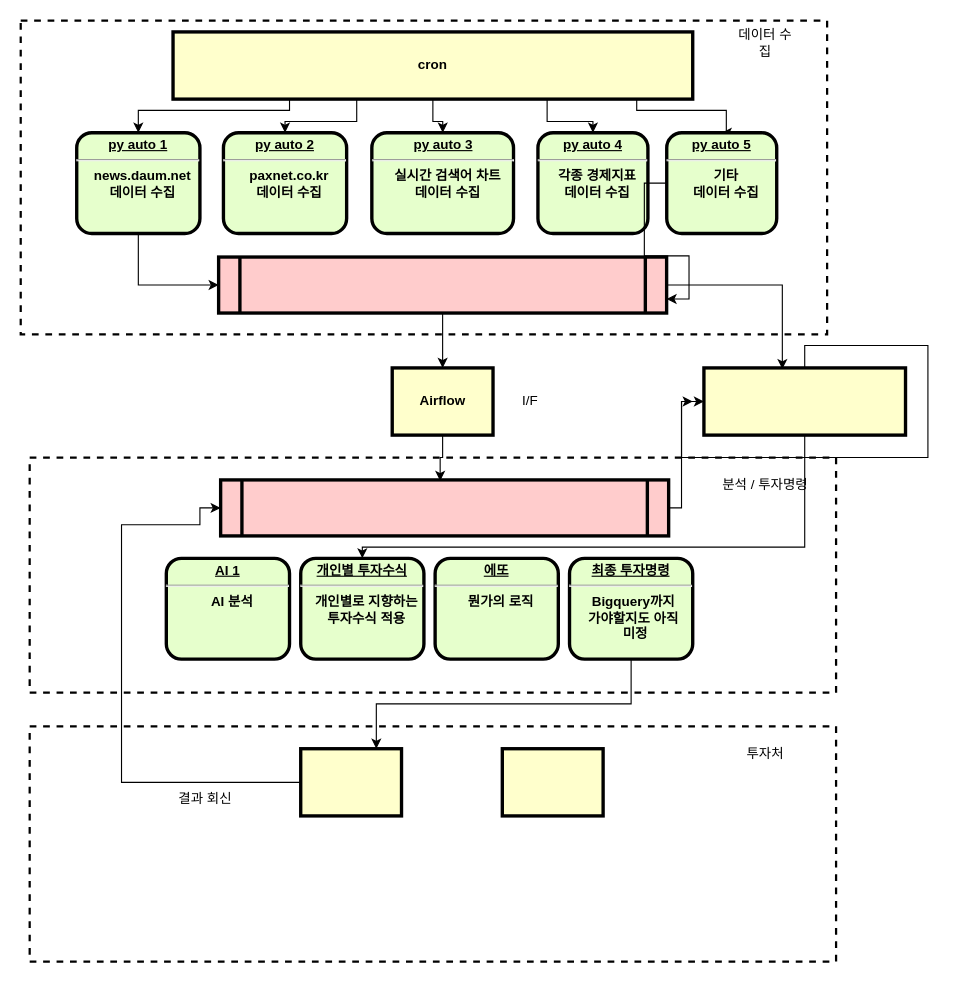
This 956x981 diagram has some shape labels left out. The shapes that lost their labels are listed below. From the top down, each one's centre as x and y in pixels, then its label:
pixel 442 284: Maria DB
pixel 804 401: WEB / Mobile View and Control
pixel 444 507: Bigquery or Firestore
pixel 350 781: 증권사 API
pixel 552 781: 코인사 API
